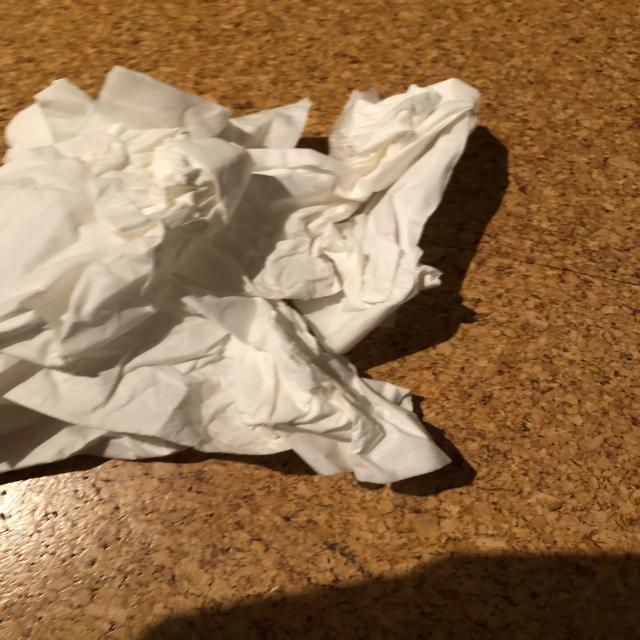kitchen paper: (0, 62, 485, 489)
